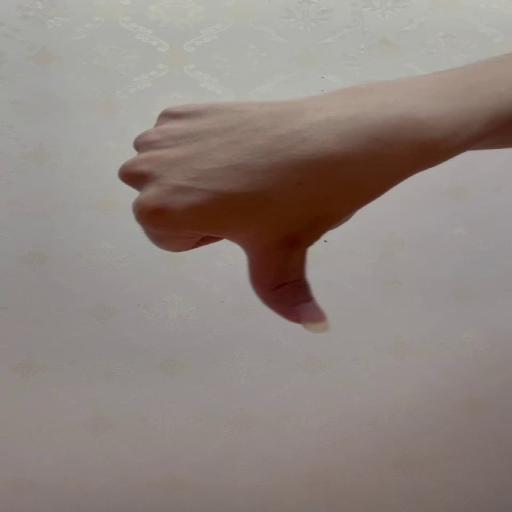thumbs_down: (114, 97, 394, 335)
